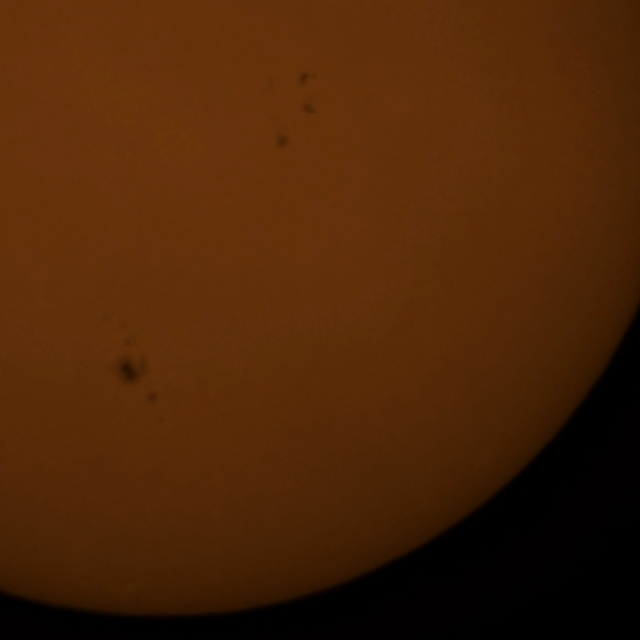sunspot: (117, 358, 142, 387), (297, 69, 318, 89), (273, 130, 291, 151), (301, 101, 318, 118)
